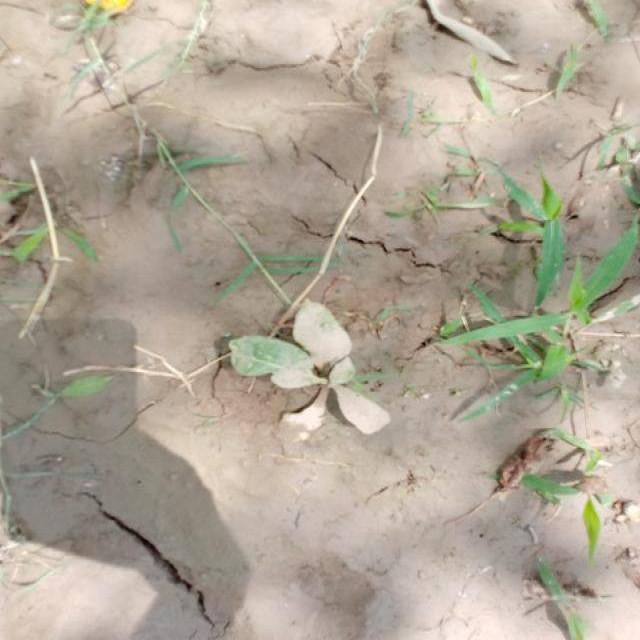crop: (234, 319, 379, 432)
